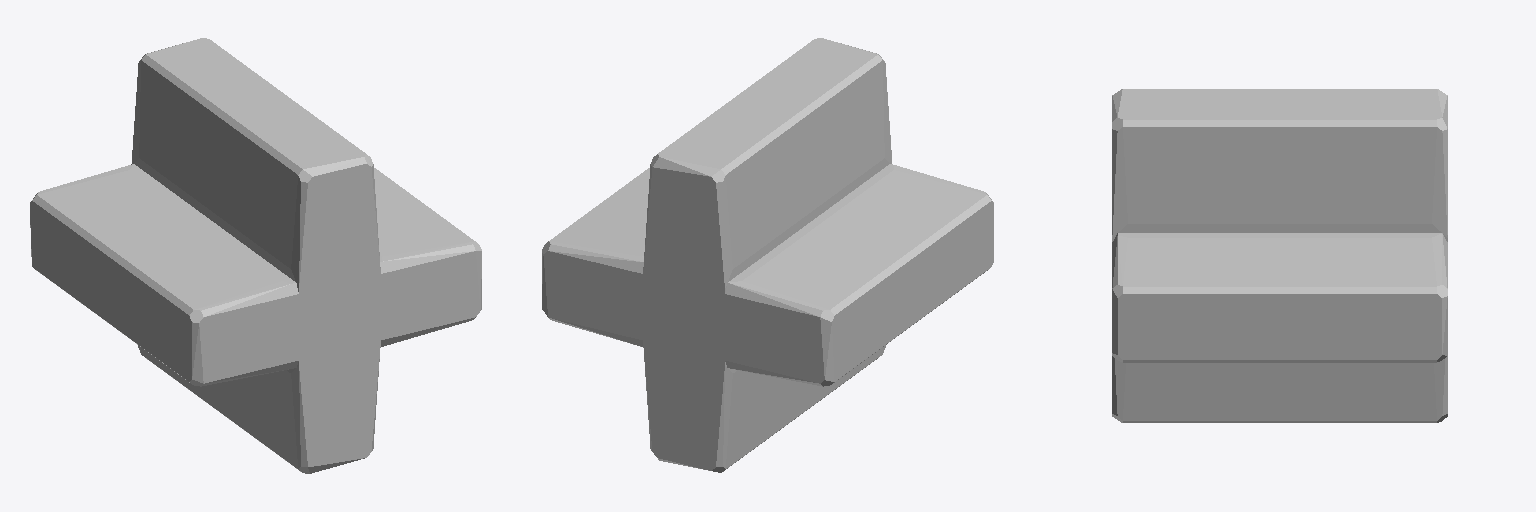
Rendered from cross.obj.
3 views of the same model, side by side, from view 1: azimuth 30°, elevation 25°; view 2: azimuth 150°, elevation 25°; view 3: azimuth 270°, elevation 25° (orthographic).
Parts seen in each view (by area): view 1: convex_2, convex_1, convex_0; view 2: convex_2, convex_1, convex_0; view 3: convex_2, convex_0.
Part boxes in pixels (x1,y1,x2,y2): convex_2: (131,38,380,473); convex_1: (30,164,298,386); convex_0: (374,168,481,346); convex_2: (643,38,891,472); convex_1: (725,164,993,386); convex_0: (542,168,649,346); convex_2: (1112,89,1447,422); convex_0: (1112,233,1447,362).
Size of the model in its own units: 25.8 by 25.8 by 25.8.